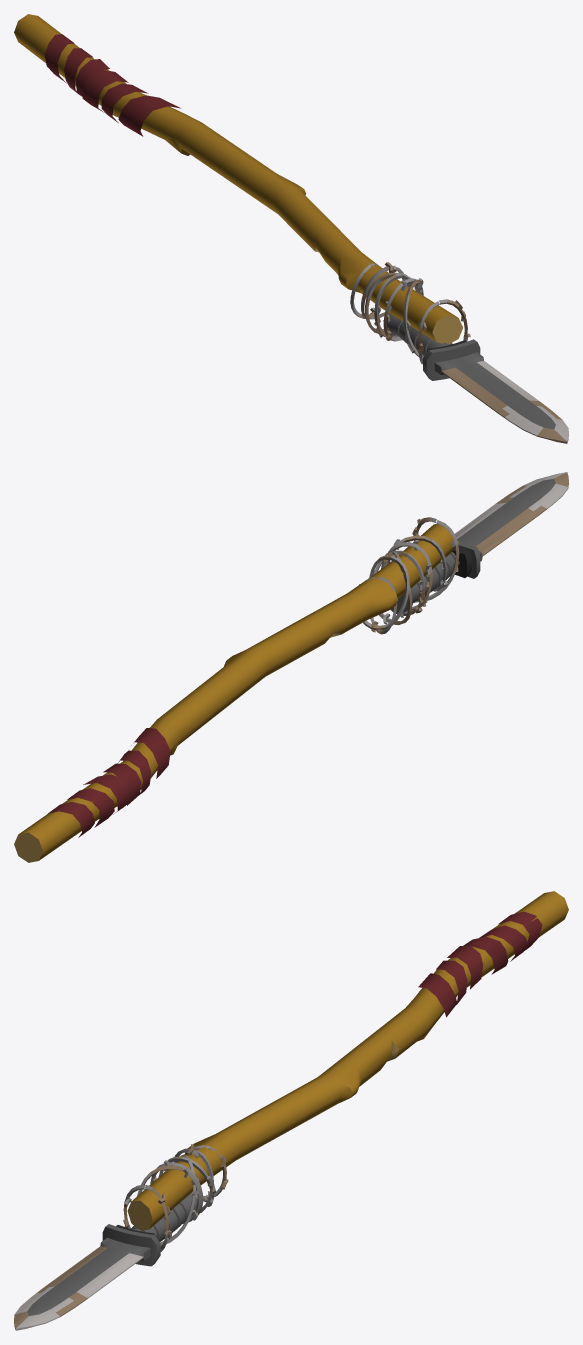
The model's file is Spear.glb.
3 renders of one model, top to bottom at view 1: azimuth 30°, elevation 25°; view 2: azimuth 150°, elevation 25°; view 3: azimuth 330°, elevation 25°, orthographic.
Visible parts, largest first — view 1: Spear; view 2: Spear; view 3: Spear.
Boxes of the visible parts, x1,y1,x2,y2 form: Spear: [14, 14, 568, 443]; Spear: [14, 472, 568, 862]; Spear: [14, 891, 568, 1330].
Bounding box in the file's own units: 0.1366 × 0.154 × 2.01.
1 material, 1 textured.
